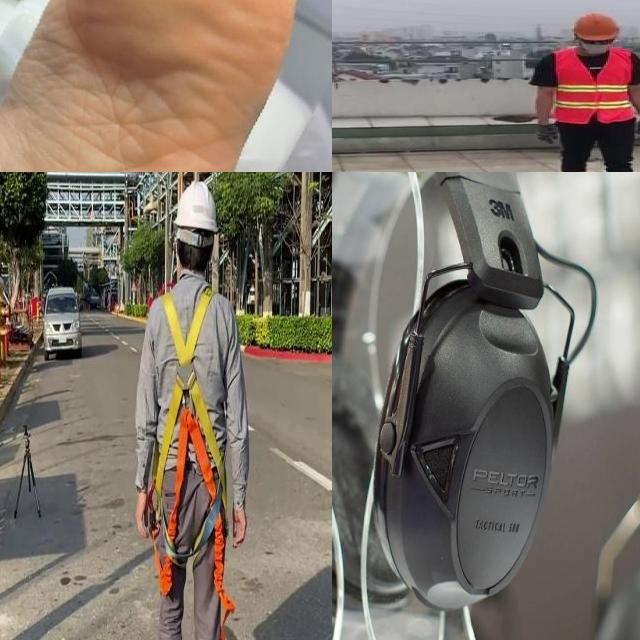Barefoots: (0, 0, 332, 172)
Ear-protection: (372, 295, 560, 621)
Harness: (154, 286, 234, 620)
head_helmet: (570, 12, 620, 42)
person: (531, 12, 640, 172)
vest: (551, 48, 634, 124)
